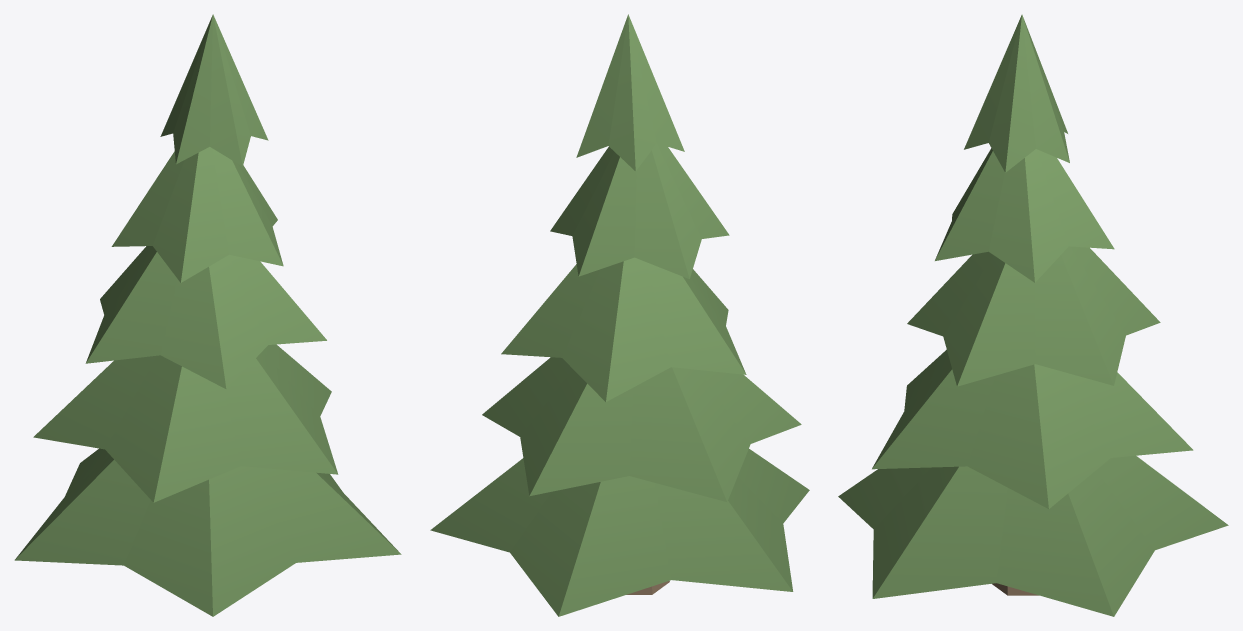
The model's file is tree_pine_3.glb.
The picture shows the model from 3 angles, left to right: view 1: azimuth 30°, elevation 25°; view 2: azimuth 150°, elevation 25°; view 3: azimuth 270°, elevation 25°; orthographic projection. The views are drawn at different scales.
Parts seen in each view (by area): view 1: copa; view 2: copa; view 3: copa.
Part boxes in pixels (left/top/right/bottom): copa: left=14, top=14, right=401, bottom=616; copa: left=430, top=14, right=809, bottom=616; copa: left=838, top=14, right=1228, bottom=616.
Size of the model in its own units: 1.66 by 2.66 by 1.65.
